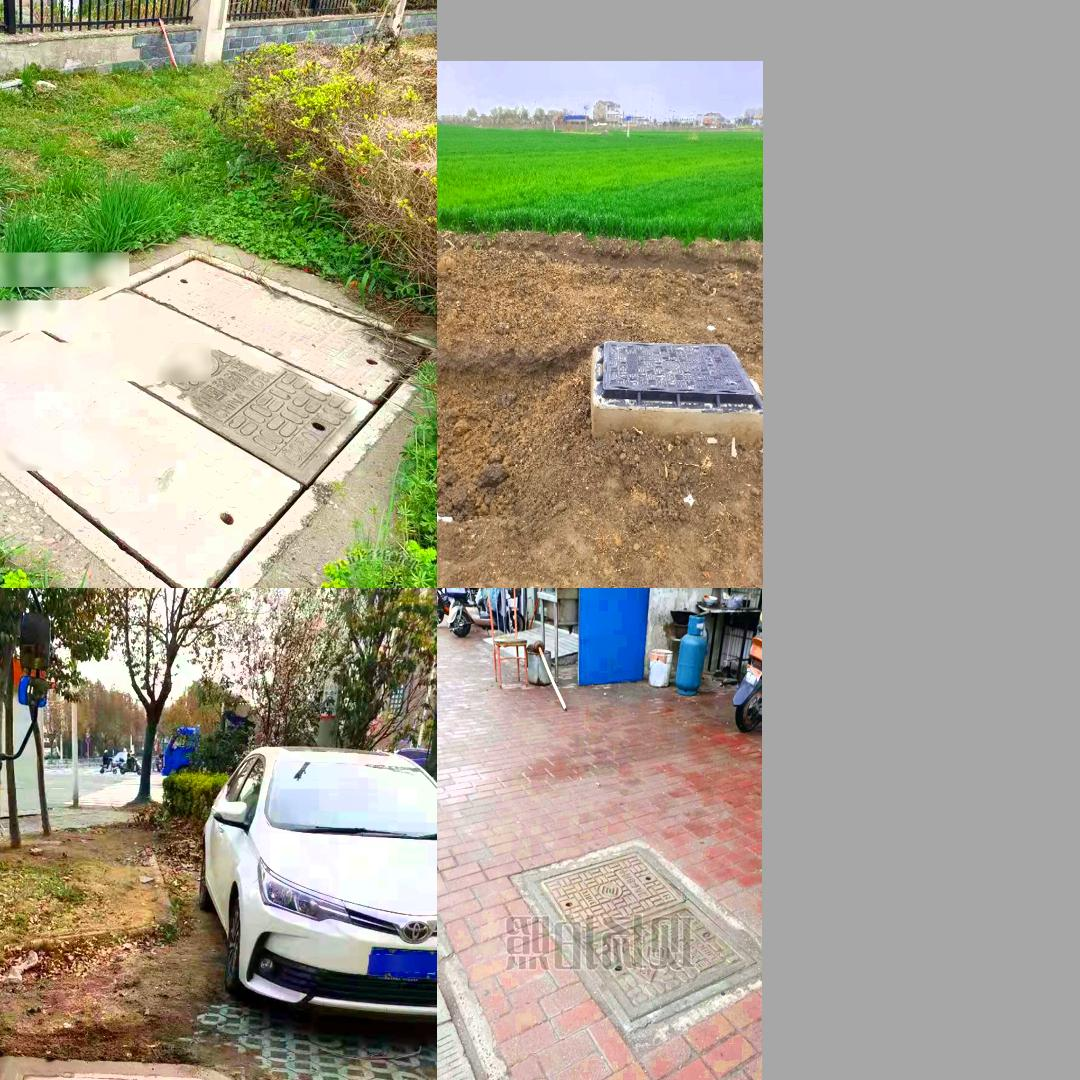good: (0, 249, 437, 585), (524, 845, 760, 1034), (591, 336, 758, 396), (0, 1070, 236, 1080)
